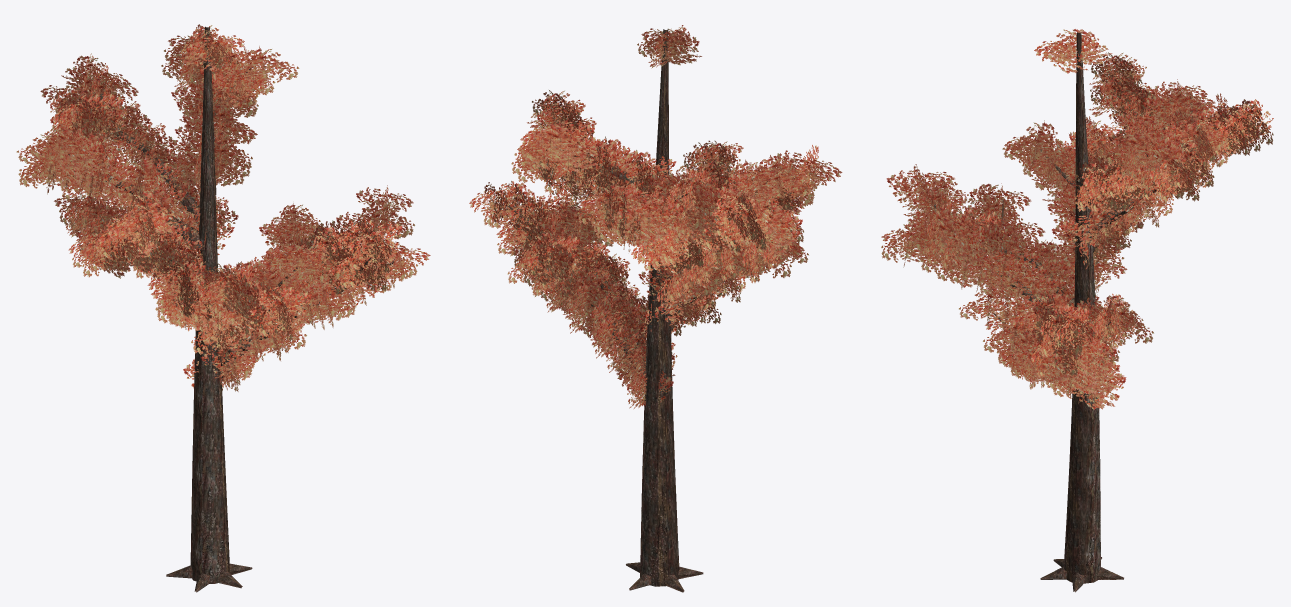
Rendered from tree_3d_01_copper_lod0.glb.
3 views of the same model, side by side, from view 1: azimuth 30°, elevation 25°; view 2: azimuth 150°, elevation 25°; view 3: azimuth 270°, elevation 25° (orthographic).
Parts seen in each view (by area): view 1: foliage_cards, wood_geometry; view 2: foliage_cards, wood_geometry; view 3: foliage_cards, wood_geometry.
Boxes of the visible parts, x1,y1,x2,y2 form: foliage_cards: [16, 24, 430, 391]; wood_geometry: [68, 26, 393, 592]; foliage_cards: [469, 25, 842, 408]; wood_geometry: [508, 29, 786, 592]; foliage_cards: [881, 29, 1273, 409]; wood_geometry: [925, 32, 1240, 592].
Size of the model in its own units: 6.77 by 10.07 by 6.7.
2 materials, 2 textured.
